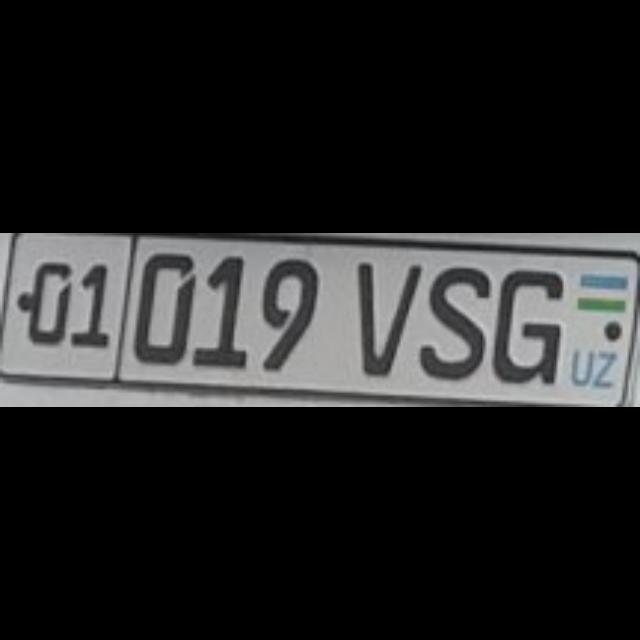0: (130, 251, 192, 361), (24, 260, 70, 342)
1: (187, 250, 246, 364), (67, 260, 106, 348)
9: (255, 254, 317, 370)
G: (489, 266, 563, 384)
S: (415, 260, 489, 378)
V: (353, 260, 415, 372)
